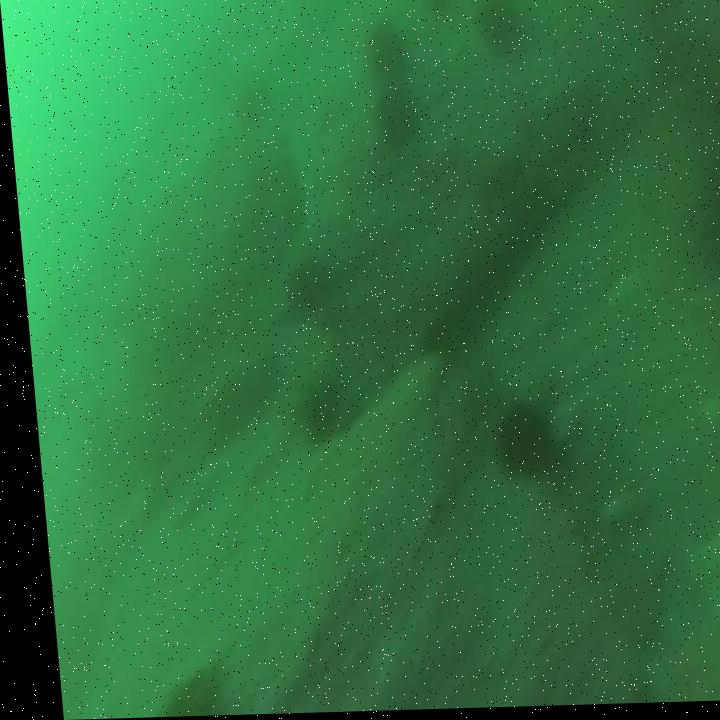echinus: (480, 384, 553, 487), (365, 75, 424, 159), (280, 377, 339, 447), (362, 15, 415, 74), (473, 0, 525, 58)
